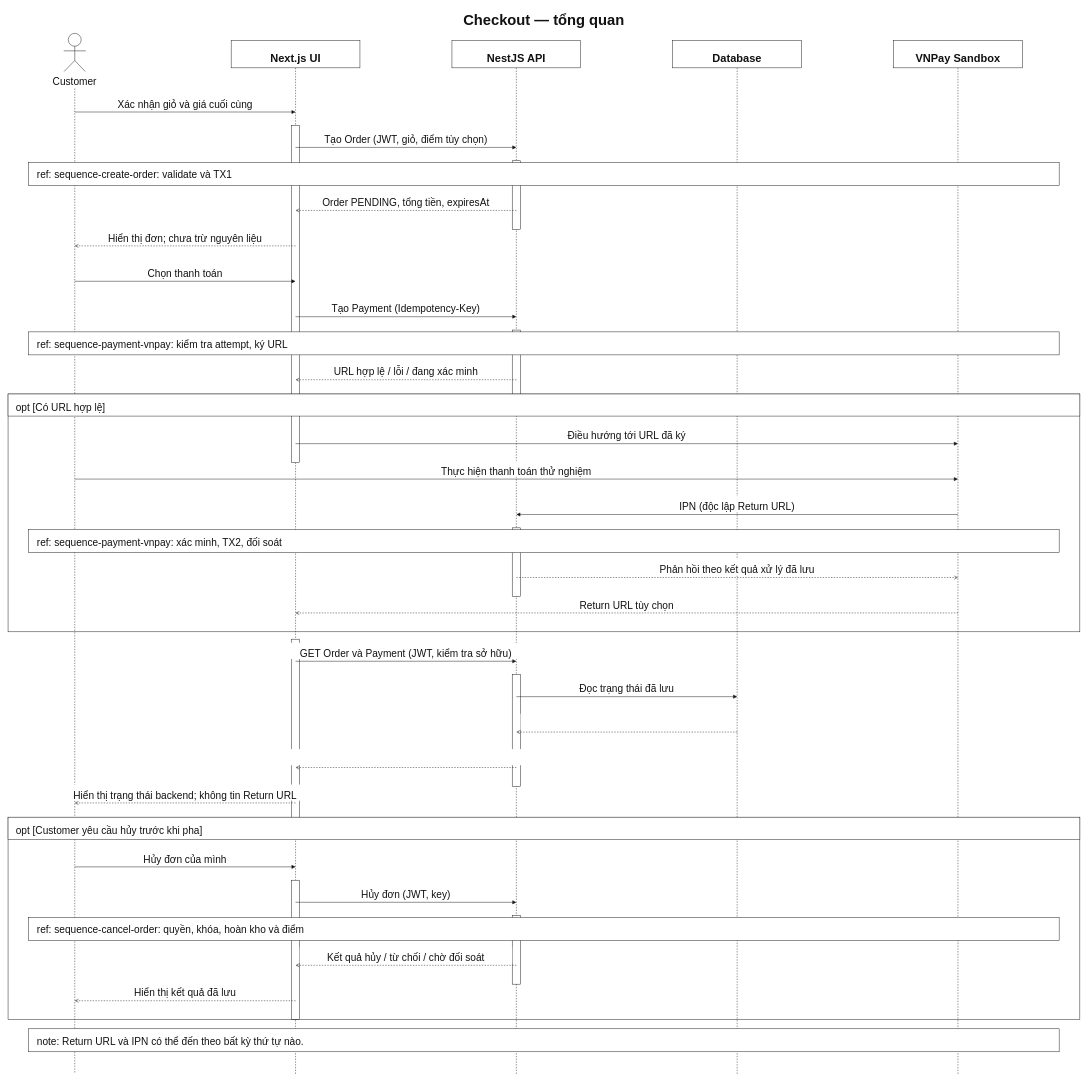
The diagram is 1088 pixels wide and 1082 high, and some of its shapes have lost their labels. Each missing label, with the centre of its shape:
"Order PAID / PAYMENT_FAILED / PENDING; Payment tương ứng" goes at (x=405, y=757).
"Order.status và Payment.status riêng" goes at (x=626, y=721).
